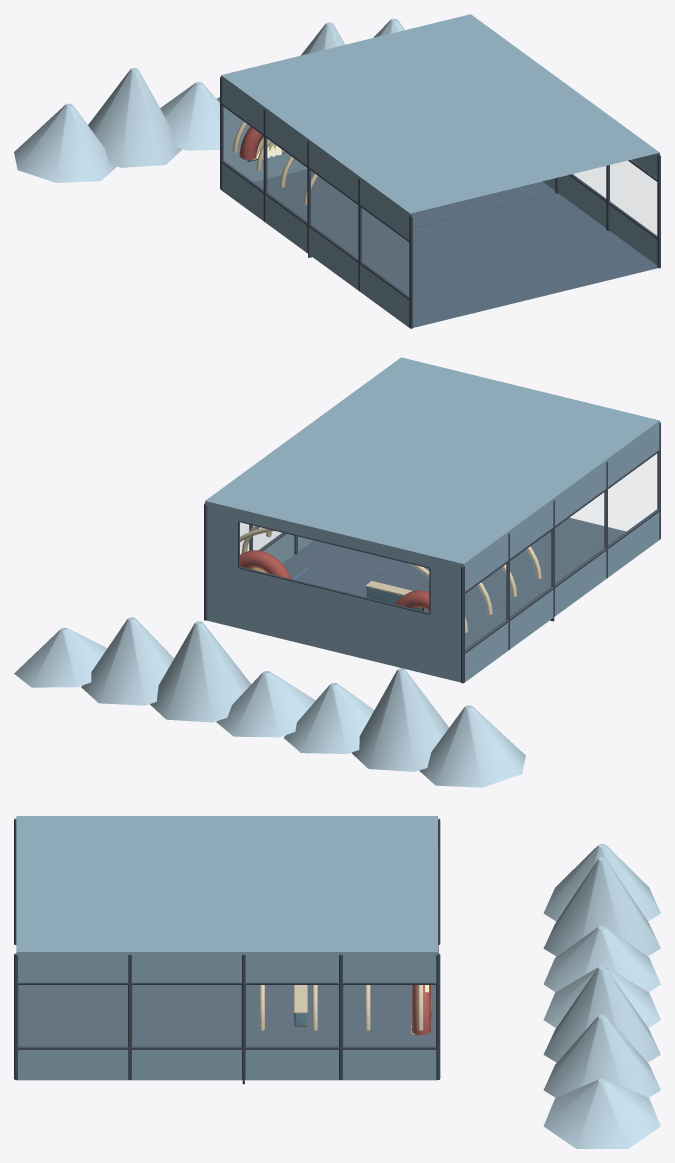
Rendered from cantina.glb.
The picture shows the model from 3 angles, top to bottom: view 1: azimuth 30°, elevation 25°; view 2: azimuth 150°, elevation 25°; view 3: azimuth 270°, elevation 25°; orthographic projection. The views are drawn at different scales.
Parts seen in each view (by area): view 1: Roof panels - Wall, Floor extension - Floor, Outside the glazing - Glass rim, Port wall - Wall, Floor - Floor, Port wall - Rib, Starboard wall - Wall, Rear bulkhead - Wall, Starboard wall - Rib, Signature architecture - Pale, Signature architecture - Soft; view 2: Roof panels - Wall, Outside the glazing - Glass rim, Rear bulkhead - Wall, Port wall - Wall, Floor extension - Floor, Floor - Floor, Port wall - Rib, Signature architecture - Soft, Rear bulkhead - Rib, Signature architecture - Pale, Starboard wall - Rib, Starboard wall - Wall; view 3: Roof panels - Wall, Outside the glazing - Glass rim, Starboard wall - Wall, Floor extension - Floor, Floor - Floor, Starboard wall - Rib, Signature architecture - Pale, Port wall - Rib, Signature architecture - Soft.
Part boxes in pixels (x1,y1,x2,y2): Roof panels - Wall: (221, 14, 659, 213); Floor extension - Floor: (341, 193, 657, 327); Outside the glazing - Glass rim: (14, 18, 404, 182); Port wall - Wall: (221, 75, 410, 327); Floor - Floor: (253, 169, 555, 245); Port wall - Rib: (220, 77, 412, 328); Starboard wall - Wall: (542, 153, 659, 265); Rear bulkhead - Wall: (223, 107, 307, 181); Starboard wall - Rib: (555, 154, 660, 268); Signature architecture - Pale: (232, 121, 318, 204); Signature architecture - Soft: (239, 126, 263, 159); Roof panels - Wall: (205, 357, 659, 563); Outside the glazing - Glass rim: (14, 617, 525, 787); Rear bulkhead - Wall: (205, 501, 463, 682); Port wall - Wall: (464, 421, 659, 682); Floor extension - Floor: (297, 517, 626, 608); Floor - Floor: (282, 554, 519, 649); Port wall - Rib: (461, 422, 660, 683); Signature architecture - Soft: (240, 550, 429, 610); Rear bulkhead - Rib: (238, 520, 430, 614); Signature architecture - Pale: (240, 526, 541, 632); Starboard wall - Rib: (204, 503, 297, 620); Starboard wall - Wall: (248, 534, 313, 568); Roof panels - Wall: (16, 816, 437, 951); Outside the glazing - Glass rim: (543, 843, 660, 1148); Starboard wall - Wall: (16, 952, 437, 1080); Floor extension - Floor: (18, 985, 241, 1046); Floor - Floor: (246, 985, 435, 1046); Starboard wall - Rib: (14, 953, 440, 1079); Signature architecture - Pale: (259, 985, 423, 1036); Port wall - Rib: (14, 818, 440, 944); Signature architecture - Soft: (412, 985, 430, 1034).
Bounding box in the file's own units: 36.79 × 9.43 × 38.64.
